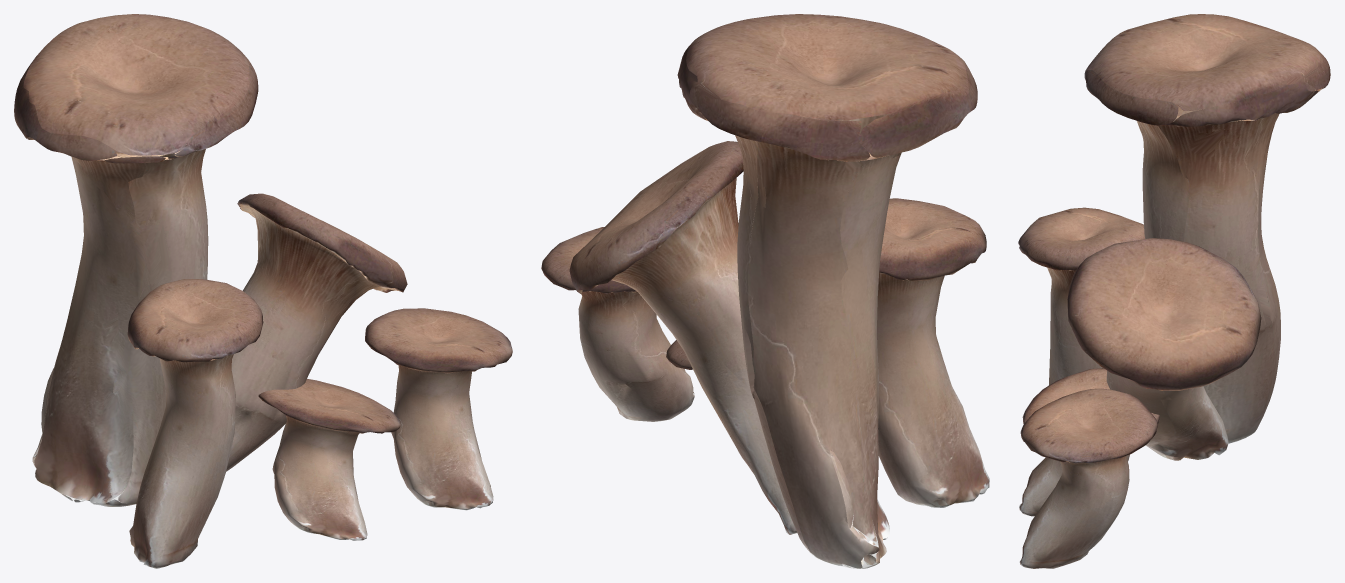
3 views of the same model, side by side, from view 1: azimuth 30°, elevation 25°; view 2: azimuth 150°, elevation 25°; view 3: azimuth 270°, elevation 25° (orthographic). The views are drawn at different scales.
Visible parts, largest first — view 1: mushroom_14_mushroom_14_0.001, mushroom_14_mushroom_14_0.003, mushroom_14_mushroom_14_0.002, mushroom_14_mushroom_14_0.005, mushroom_14_mushroom_14_0.004; view 2: mushroom_14_mushroom_14_0.001, mushroom_14_mushroom_14_0.002, mushroom_14_mushroom_14_0.003, mushroom_14_mushroom_14_0.005; view 3: mushroom_14_mushroom_14_0.001, mushroom_14_mushroom_14_0.002, mushroom_14_mushroom_14_0.005, mushroom_14_mushroom_14_0.003, mushroom_14_mushroom_14_0.004.
Boxes of the visible parts, bbox=[...] form: mushroom_14_mushroom_14_0.001: bbox=[14, 14, 258, 506]; mushroom_14_mushroom_14_0.003: bbox=[127, 279, 263, 568]; mushroom_14_mushroom_14_0.002: bbox=[226, 193, 407, 471]; mushroom_14_mushroom_14_0.005: bbox=[365, 308, 512, 510]; mushroom_14_mushroom_14_0.004: bbox=[258, 379, 400, 540]; mushroom_14_mushroom_14_0.001: bbox=[677, 14, 977, 568]; mushroom_14_mushroom_14_0.002: bbox=[569, 141, 796, 534]; mushroom_14_mushroom_14_0.003: bbox=[877, 198, 989, 507]; mushroom_14_mushroom_14_0.005: bbox=[541, 227, 694, 421]; mushroom_14_mushroom_14_0.001: bbox=[1084, 14, 1330, 443]; mushroom_14_mushroom_14_0.002: bbox=[1067, 238, 1261, 460]; mushroom_14_mushroom_14_0.005: bbox=[1019, 388, 1157, 568]; mushroom_14_mushroom_14_0.003: bbox=[1018, 207, 1145, 385]; mushroom_14_mushroom_14_0.004: bbox=[1019, 368, 1159, 516].
Bounding box in the file's own units: 9787 × 9925 × 6781.
1 material, 1 textured.
